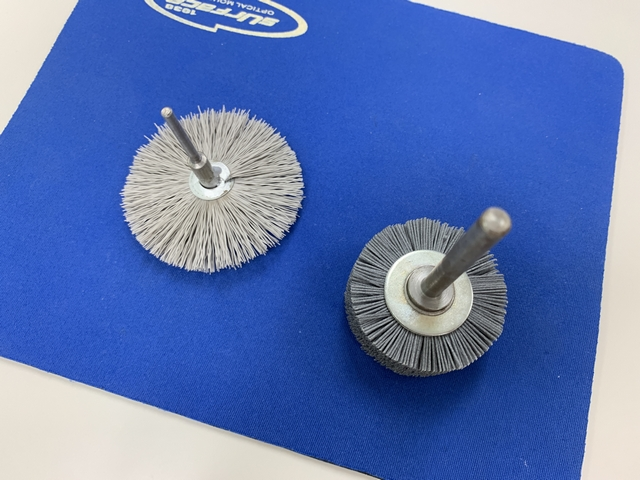TOOL: (112, 93, 314, 285)
Wheel Brush: (339, 201, 514, 385)
